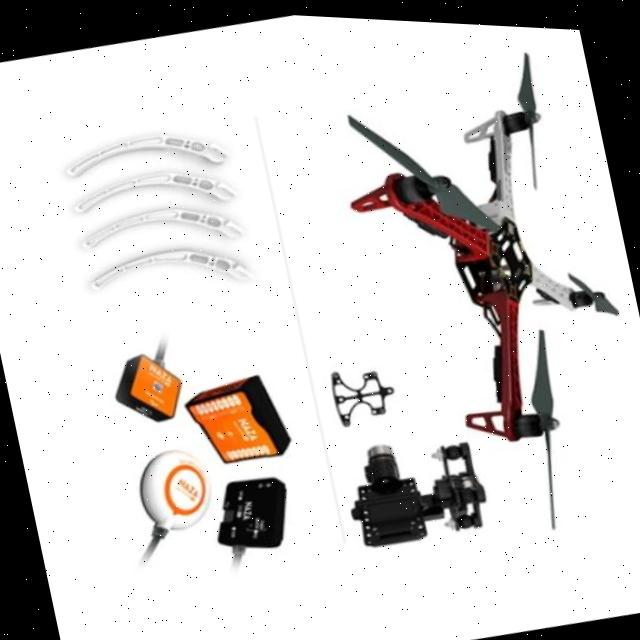drones: (308, 13, 640, 555)
